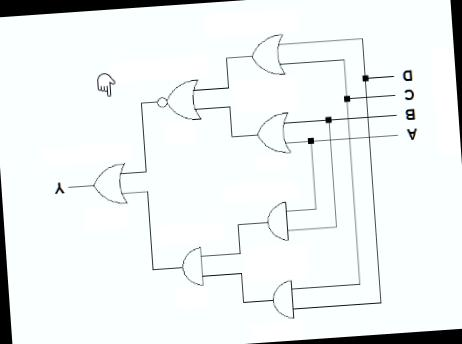and: (257, 191, 295, 245), (173, 240, 212, 292), (263, 272, 298, 324)
nor: (151, 65, 208, 127)
or: (250, 102, 294, 160), (244, 26, 288, 82)
